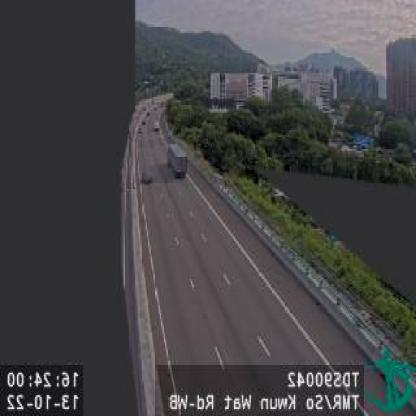Truck: (166, 144, 186, 180)
